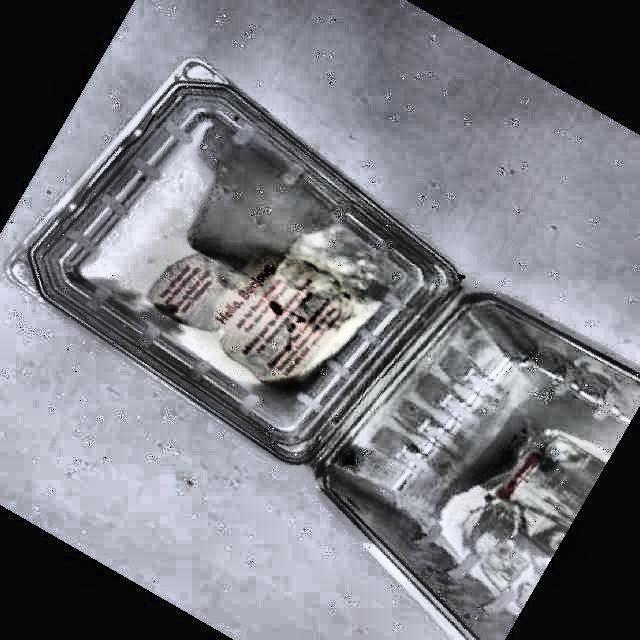plastic: (12, 60, 640, 639)
